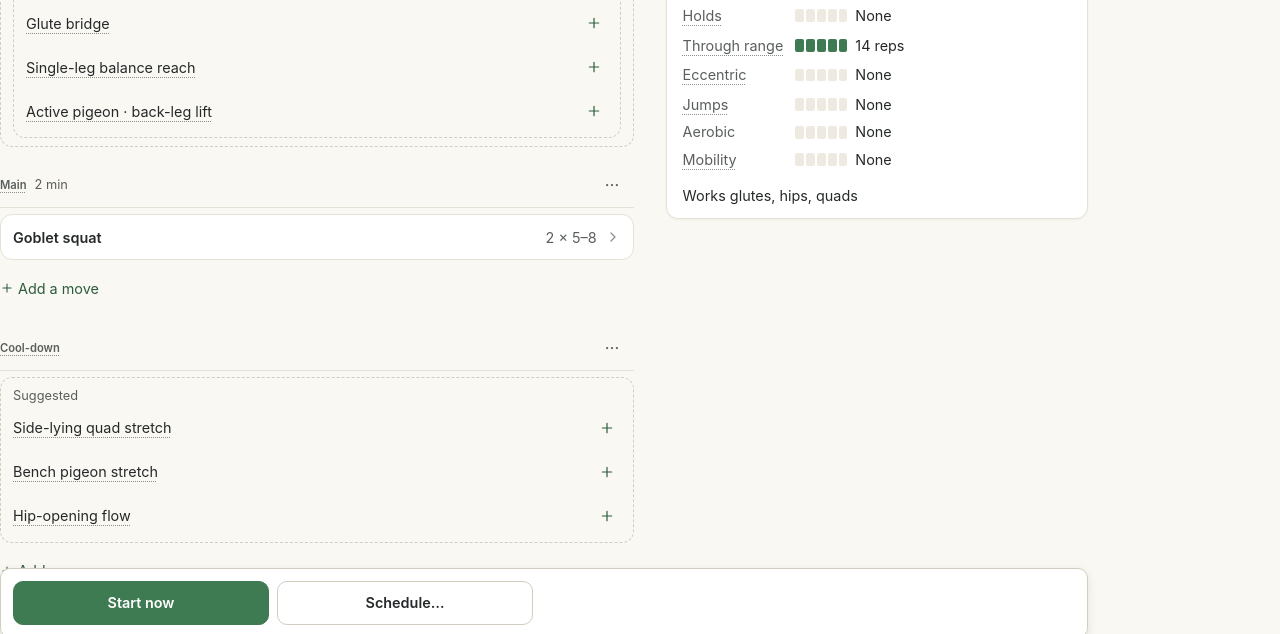
focus › a part moved down to the very end hands focus to Move up
The width and height of the screenshot is (1280, 634).
(page scrolled)
Step 1. Click the button named "Main: options" → (612, 185), box top-left (590, 163), bottom-right (634, 207)
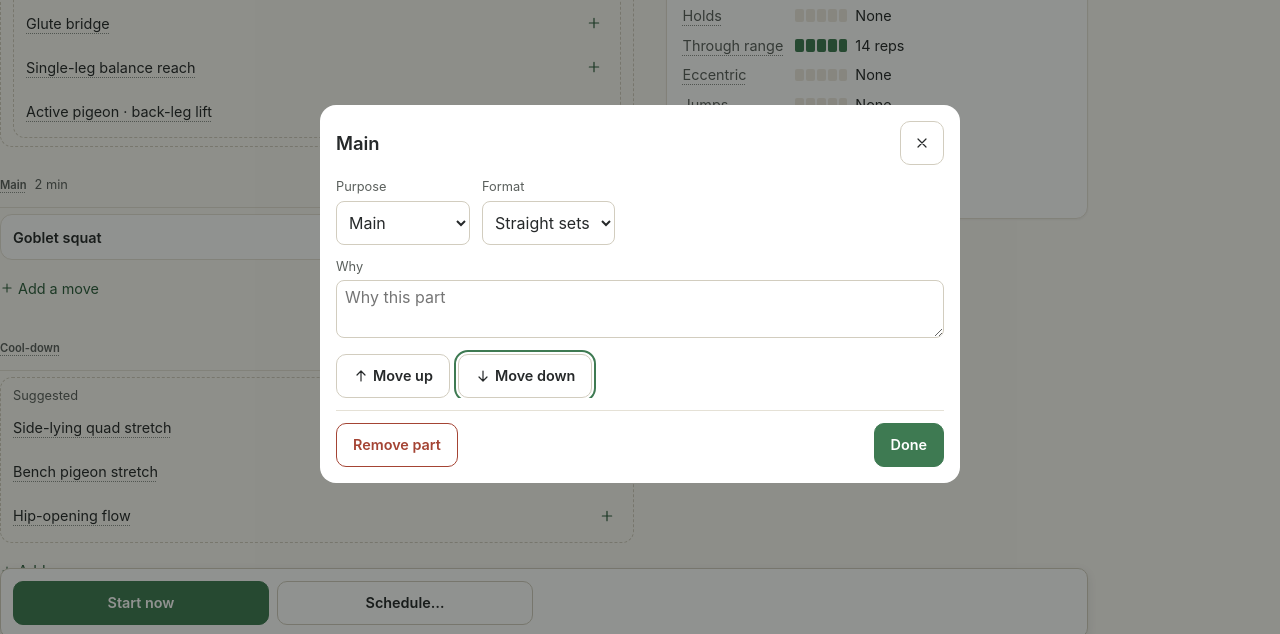
Step 2. Click the button "Move down" → (525, 376), box top-left (458, 354), bottom-right (592, 398)
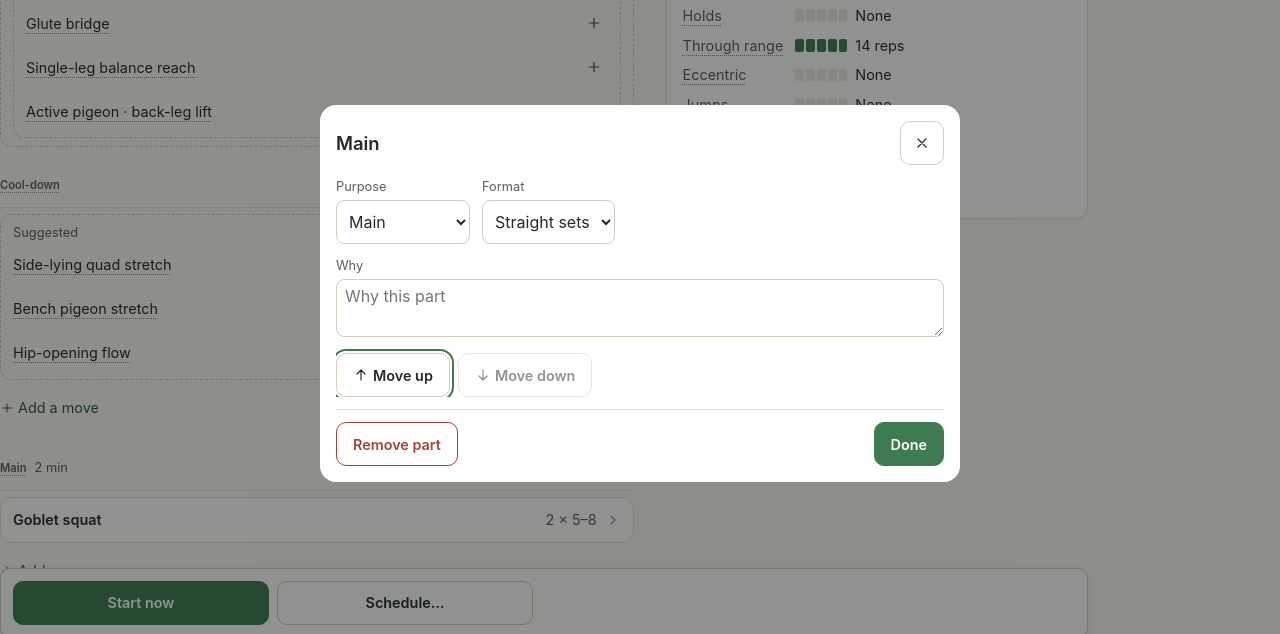
Result: the button "Move down" is disabled at top-left (458, 353), bottom-right (592, 397)
